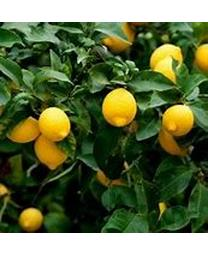lemon: (103, 89, 136, 127), (36, 134, 70, 169), (39, 107, 70, 141), (159, 125, 190, 156), (6, 117, 41, 144), (162, 106, 193, 136), (150, 45, 182, 71), (20, 208, 42, 230)
